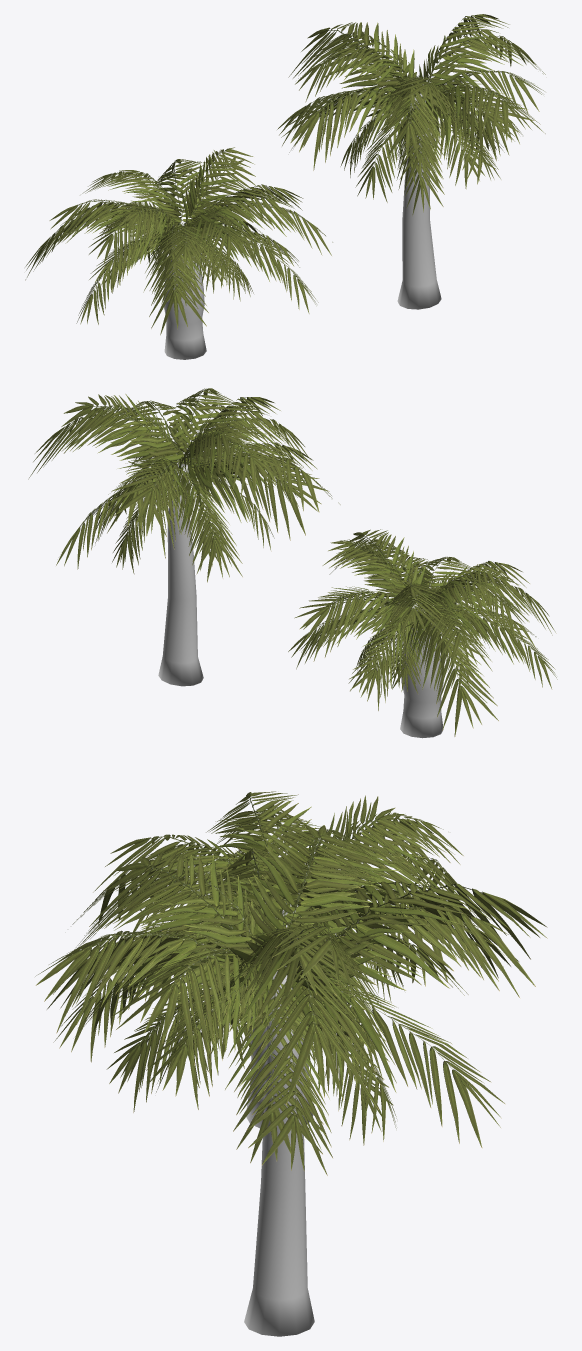
File: Palm_Plants_A1.fbx
The picture shows the model from 3 angles, top to bottom: view 1: azimuth 30°, elevation 25°; view 2: azimuth 150°, elevation 25°; view 3: azimuth 270°, elevation 25°; orthographic projection. The views are drawn at different scales.
Parts seen in each view (by area): view 1: Palm_Plant_A2, Palm_Plant_A1; view 2: Palm_Plant_A2, Palm_Plant_A1; view 3: Palm_Plant_A2, Palm_Plant_A1.
Boxes of the visible parts, <box> form: Palm_Plant_A2: <box>277,14,545,309</box>; Palm_Plant_A1: <box>25,147,332,359</box>; Palm_Plant_A2: <box>28,388,340,686</box>; Palm_Plant_A1: <box>288,529,557,738</box>; Palm_Plant_A2: <box>35,820,547,1336</box>; Palm_Plant_A1: <box>53,791,518,1128</box>.
Bounding box in the file's own units: 651 × 324 × 364.
